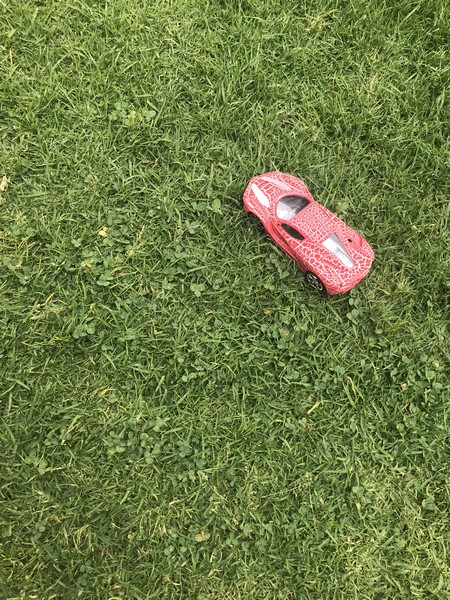RC: (242, 168, 375, 301)
